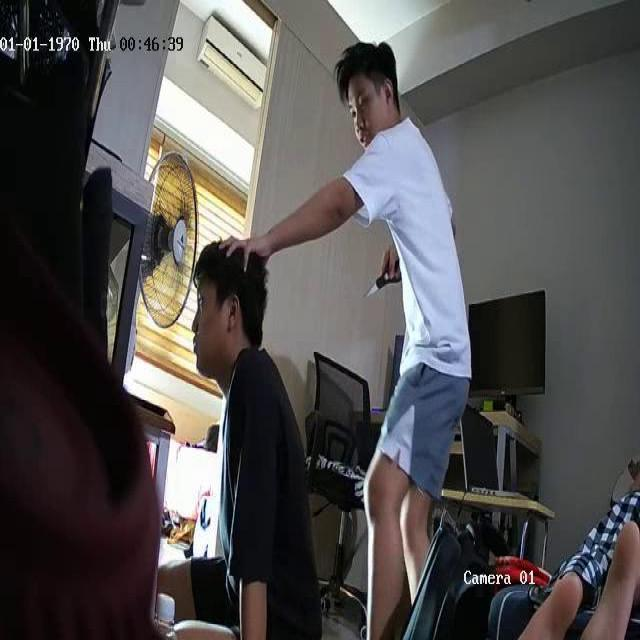scissor: (365, 268, 401, 299)
